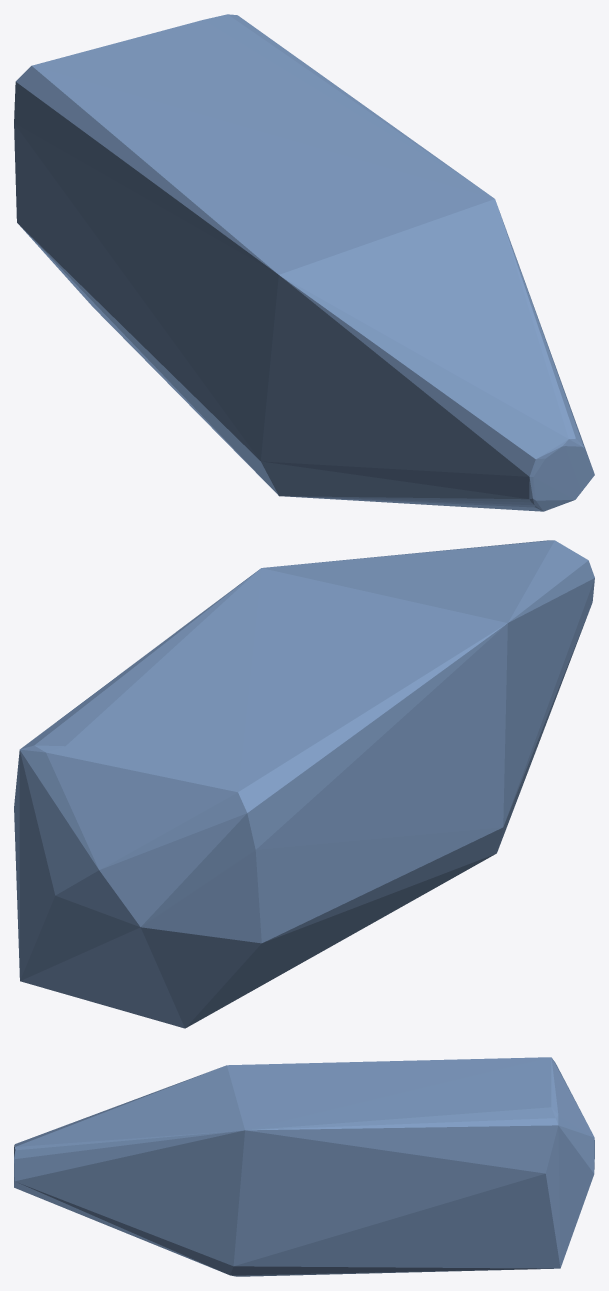
Rendered from food_beverage_whiskyBottle_b01.glb.
3 views of the same model, one above another, from view 1: azimuth 30°, elevation 25°; view 2: azimuth 150°, elevation 25°; view 3: azimuth 270°, elevation 25° (orthographic). The views are drawn at different scales.
Parts seen in each view (by area): view 1: geometry_0; view 2: geometry_0; view 3: geometry_0.
Part boxes in pixels (<box>): geometry_0: <box>14,14,594,511</box>; geometry_0: <box>14,540,594,1028</box>; geometry_0: <box>14,1057,594,1276</box>.
Size of the model in its own units: 0.148 by 0.147 by 0.48.
